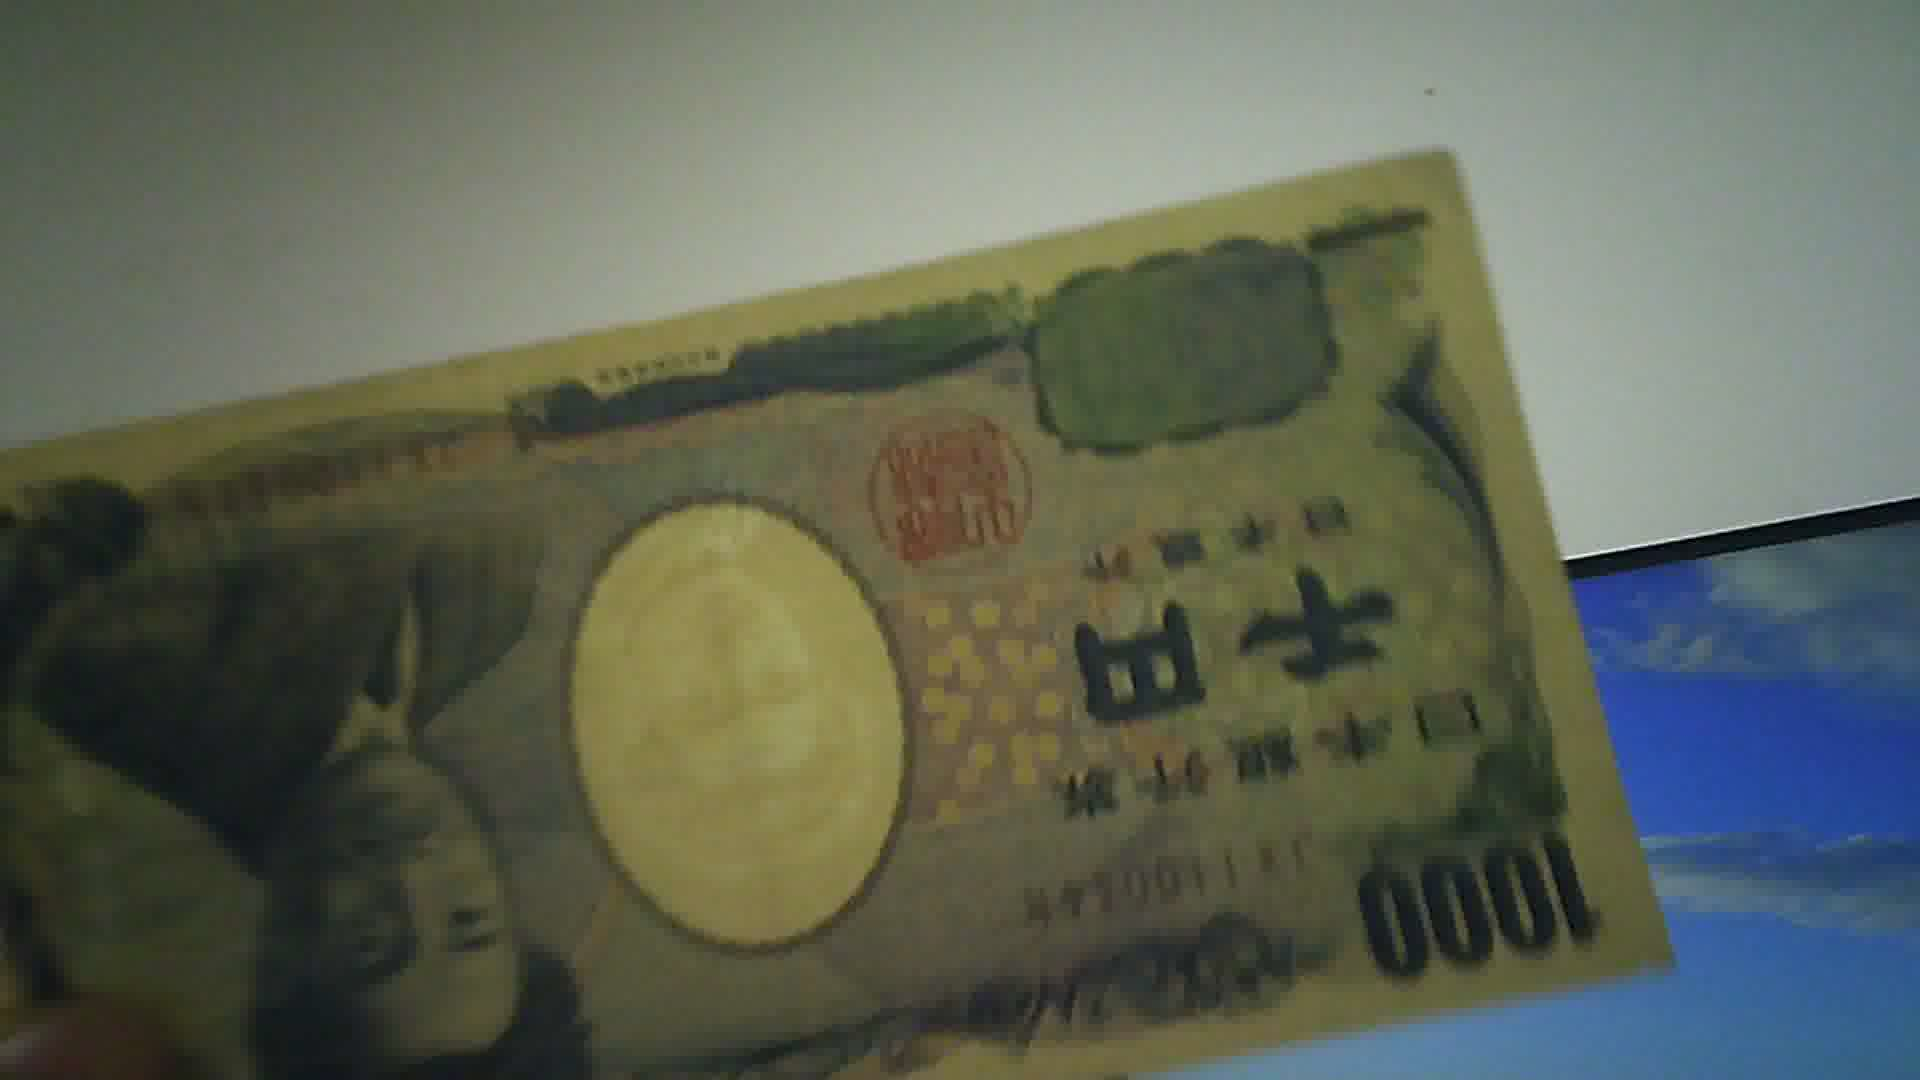1,000 Yen: (7, 131, 1646, 1079)
